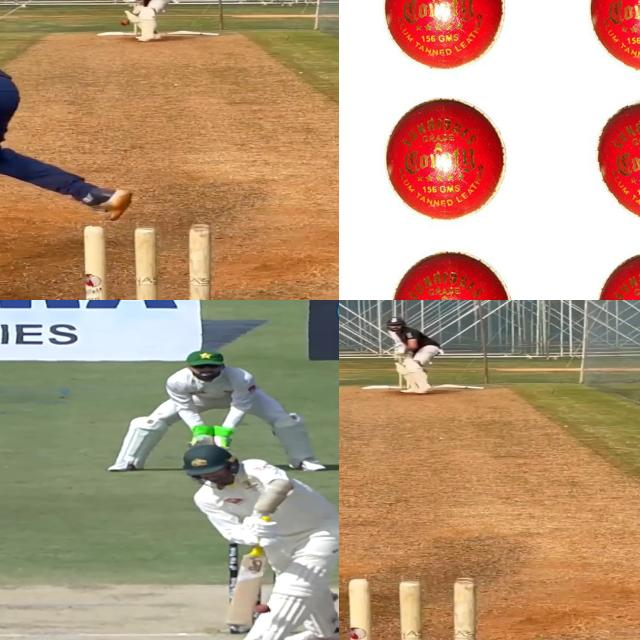Cricket ball: (368, 88, 530, 220), (370, 0, 516, 72), (578, 92, 640, 231), (380, 243, 523, 300), (572, 0, 640, 78), (252, 603, 272, 614), (120, 20, 131, 26)
Stumps: (75, 222, 214, 300), (348, 576, 478, 640)
